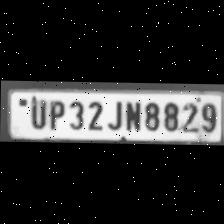2: (179, 98, 199, 132), (84, 96, 104, 129)
3: (64, 96, 84, 129)
8: (141, 97, 161, 130), (159, 97, 179, 130)
9: (196, 98, 218, 132)
J: (104, 96, 122, 130)
N: (122, 98, 142, 132)
P: (45, 97, 65, 129)
U: (26, 96, 46, 128)
